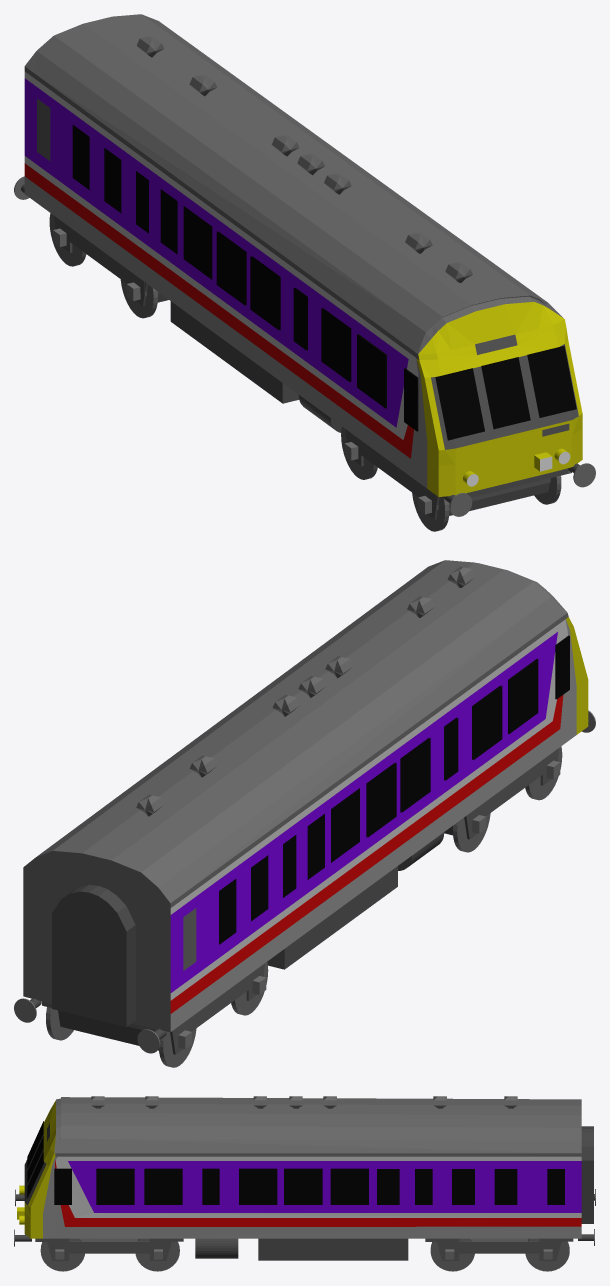
File: BR-101-dmbs-nse-old.dae
The picture shows the model from 3 angles, top to bottom: view 1: azimuth 30°, elevation 25°; view 2: azimuth 150°, elevation 25°; view 3: azimuth 270°, elevation 25°; orthographic projection. The views are drawn at different scales.
Visible parts, largest first — view 1: BR-cl101-front_rear, Cube_001, Cube_043, Cube_043_001, Cube_061, Cylinder_009; view 2: BR-cl101-front_rear, Cube, Cube_001, Cube_060_001, Cube_043_001, Cube_043, Cylinder_008_001, Cylinder_008; view 3: BR-cl101-front_rear, Cube_001, Cube_043, Cube_043_001, Cube, Cylinder_002, Cylinder_011_001, Cylinder_011, Cylinder_010_001, Cylinder_010, Cube_061_001, Cube_061 (+2 smaller).
Boxes of the visible parts, left/top/right/bottom form: BR-cl101-front_rear: left=24, top=14, right=582, bottom=497; Cube_001: left=170, top=301, right=298, bottom=403; Cube_043: left=361, top=441, right=550, bottom=509; Cube_043_001: left=70, top=227, right=159, bottom=296; Cube_061: left=427, top=482, right=549, bottom=519; Cylinder_009: left=412, top=492, right=449, bottom=531; BR-cl101-front_rear: left=23, top=560, right=588, bottom=1032; Cube: left=52, top=884, right=135, bottom=1026; Cube_001: left=267, top=866, right=397, bottom=969; Cube_060_001: left=42, top=1001, right=188, bottom=1054; Cube_043_001: left=188, top=964, right=263, bottom=1031; Cube_043: left=482, top=749, right=557, bottom=816; Cylinder_008_001: left=159, top=1028, right=196, bottom=1067; Cylinder_008: left=453, top=813, right=490, bottom=852; BR-cl101-front_rear: left=24, top=1096, right=581, bottom=1238; Cube_001: left=258, top=1238, right=408, bottom=1260; Cube_043: left=49, top=1238, right=168, bottom=1253; Cube_043_001: left=439, top=1238, right=557, bottom=1253; Cube: left=581, top=1126, right=593, bottom=1223; Cylinder_002: left=195, top=1238, right=238, bottom=1258; Cylinder_011_001: left=525, top=1238, right=569, bottom=1271; Cylinder_011: left=135, top=1238, right=179, bottom=1271; Cylinder_010_001: left=430, top=1238, right=474, bottom=1271; Cylinder_010: left=40, top=1238, right=84, bottom=1271; Cube_061_001: left=425, top=1238, right=459, bottom=1260; Cube_061: left=35, top=1238, right=69, bottom=1260.
Size of the model in its own units: 2.04 by 10.32 by 3.05.
